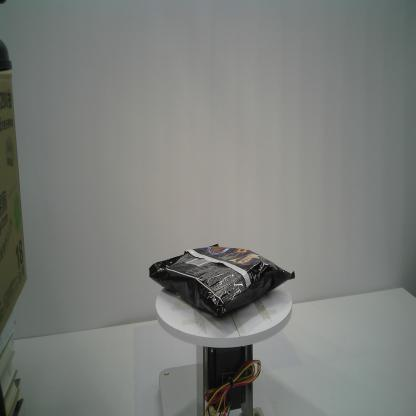Instant Noodles: (145, 240, 295, 322)
